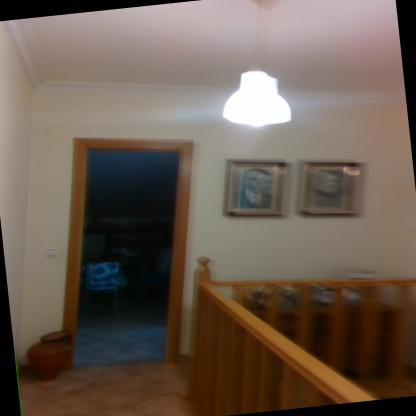open: (58, 114, 205, 366)
